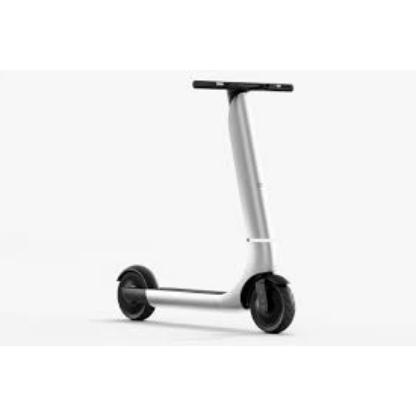bike: (116, 80, 297, 335)
car: (116, 80, 298, 335)
